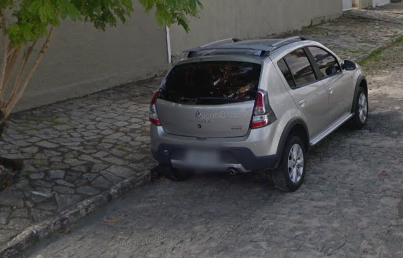car: (146, 28, 372, 196)
